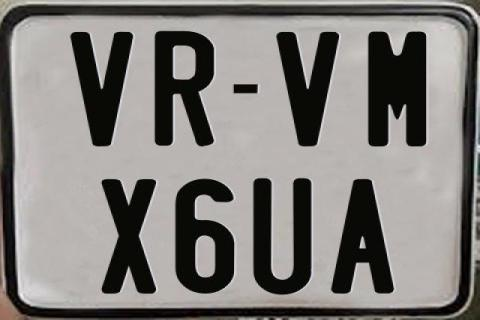0: (175, 177, 239, 297)
A: (330, 177, 393, 293)
M: (365, 29, 425, 149)
R: (153, 30, 215, 148)
U: (252, 178, 311, 296)
V: (70, 30, 137, 148), (275, 30, 339, 148)
X: (101, 178, 161, 294)
